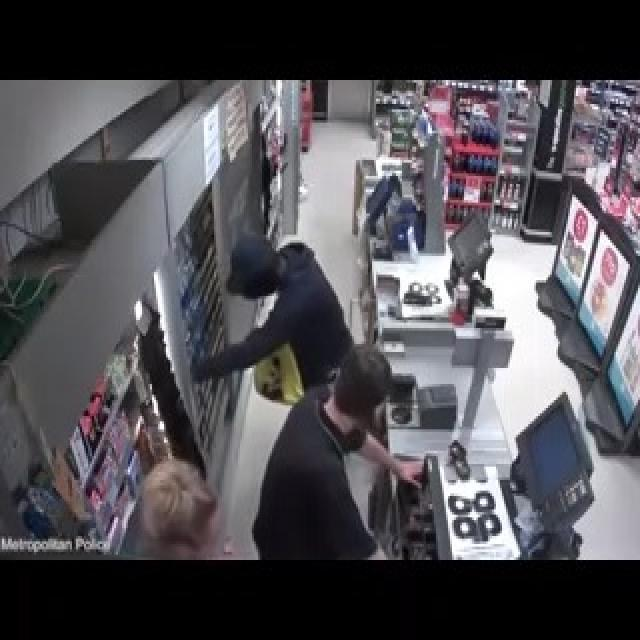Shoplifting: (161, 164, 413, 431)
